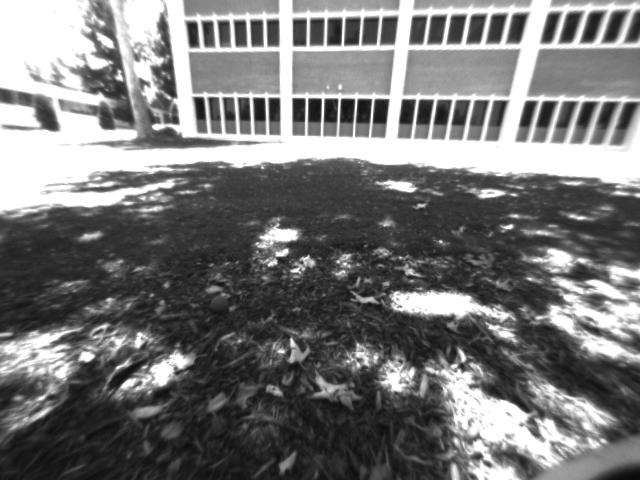dogtoy: (201, 288, 237, 317)
